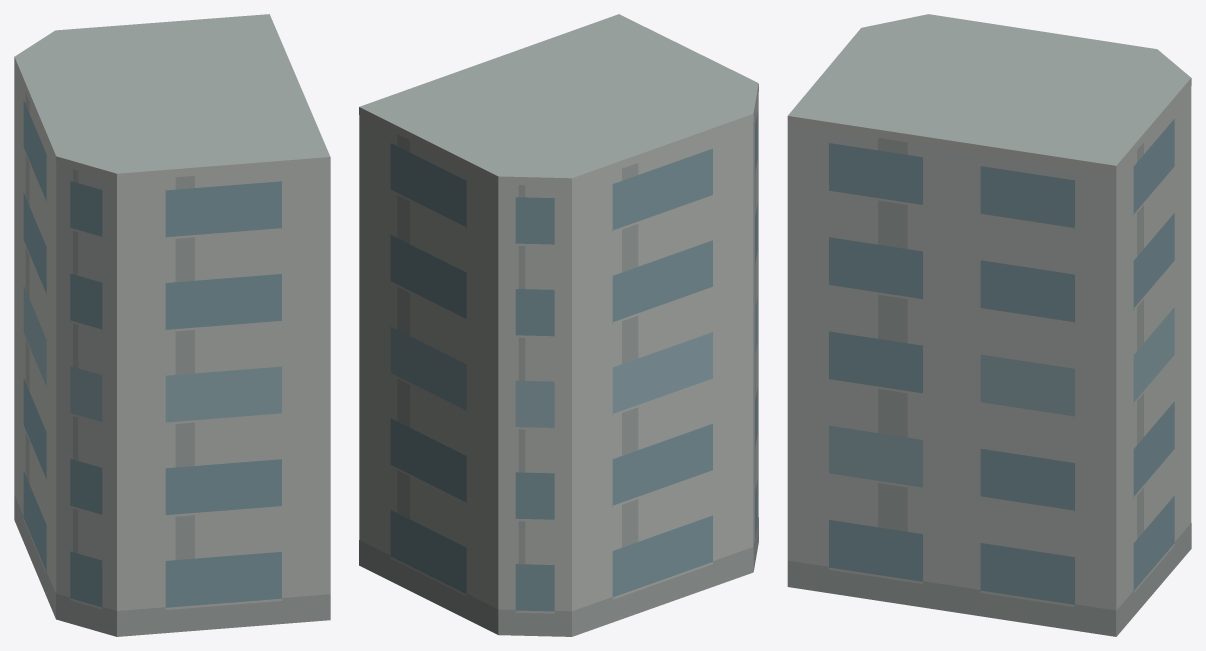
The model's file is survey-upis-32515214.glb.
3 views of the same model, side by side, from view 1: azimuth 30°, elevation 25°; view 2: azimuth 150°, elevation 25°; view 3: azimuth 270°, elevation 25° (orthographic). The views are drawn at different scales.
Parts seen in each view (by area): view 1: survey-upis-32515214.tmp; view 2: survey-upis-32515214.tmp; view 3: survey-upis-32515214.tmp.
Boxes of the visible parts, x1,y1,x2,y2 form: survey-upis-32515214.tmp: (14,14,330,636); survey-upis-32515214.tmp: (359,14,758,636); survey-upis-32515214.tmp: (787,14,1191,636).
Size of the model in its own units: 9.48 by 13.7 by 10.65.
